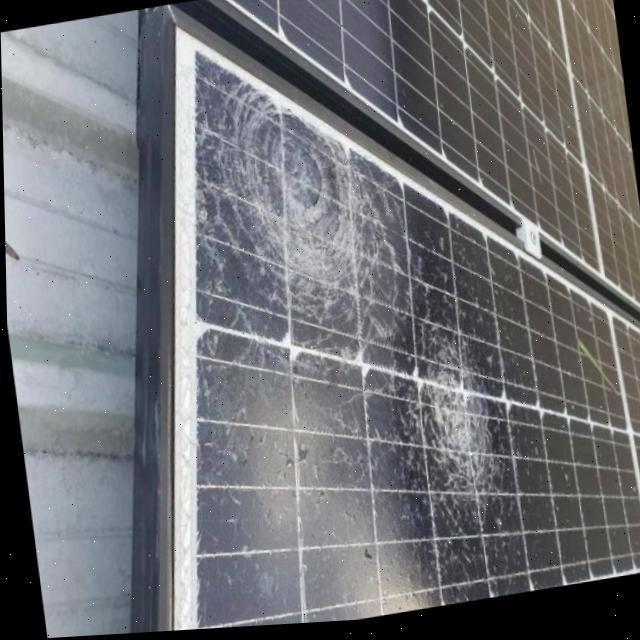Anomaly Solar Panel: (166, 24, 640, 633)
Normal Solar Panel: (230, 0, 640, 312)
Structural Damage: (139, 16, 428, 399), (373, 309, 514, 561)
